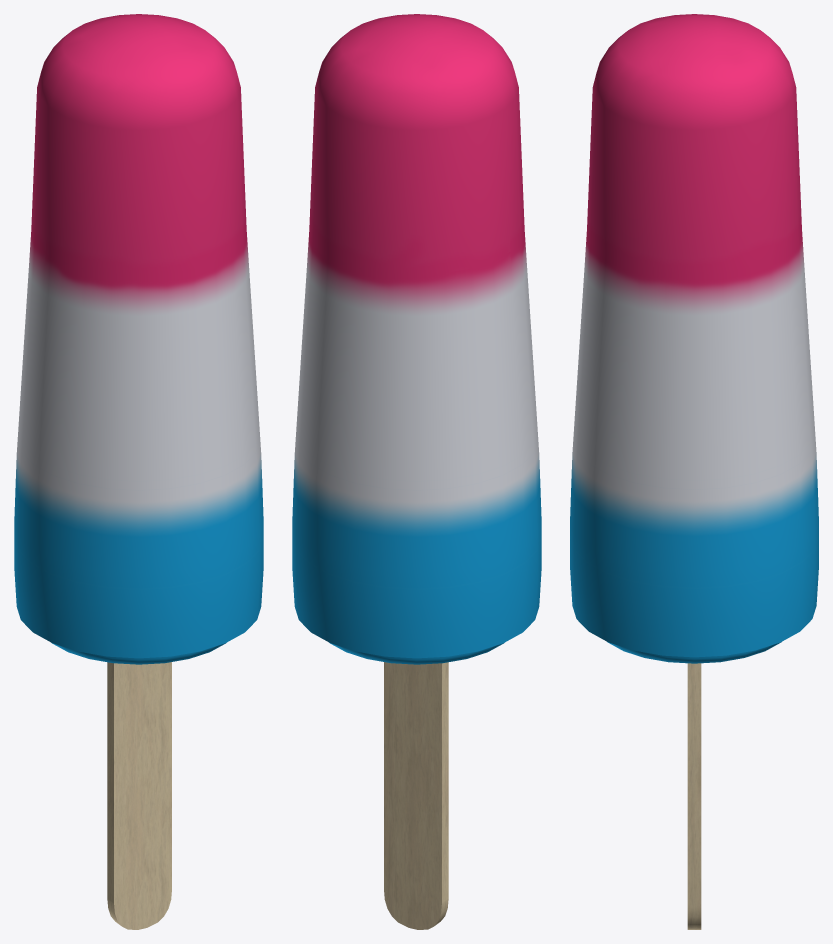
Rendered from Popsicle3.fbx.
3 views of the same model, side by side, from view 1: azimuth 30°, elevation 25°; view 2: azimuth 150°, elevation 25°; view 3: azimuth 270°, elevation 25° (orthographic).
Parts seen in each view (by area): view 1: Popsicle3; view 2: Popsicle3; view 3: Popsicle3.
Part boxes in pixels (x1,y1,x2,y2): Popsicle3: (14, 14, 263, 929); Popsicle3: (292, 14, 541, 929); Popsicle3: (570, 14, 818, 929).
Size of the model in its own units: 1.46 by 5.81 by 1.46.
